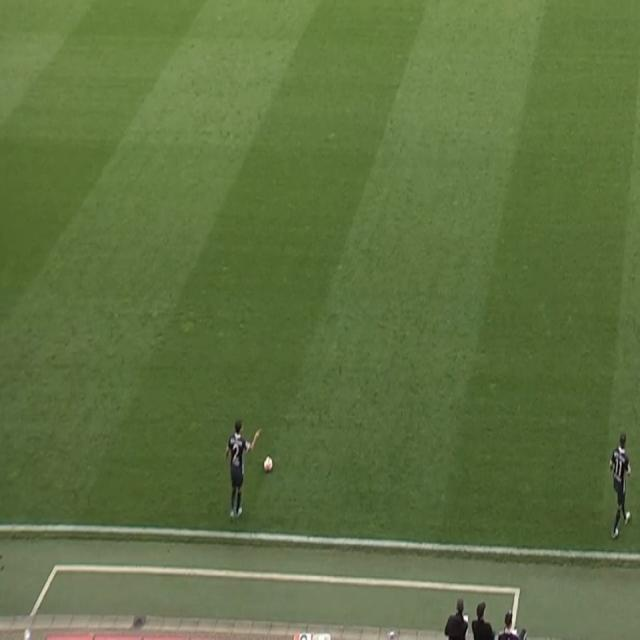ball: (263, 454, 274, 474)
